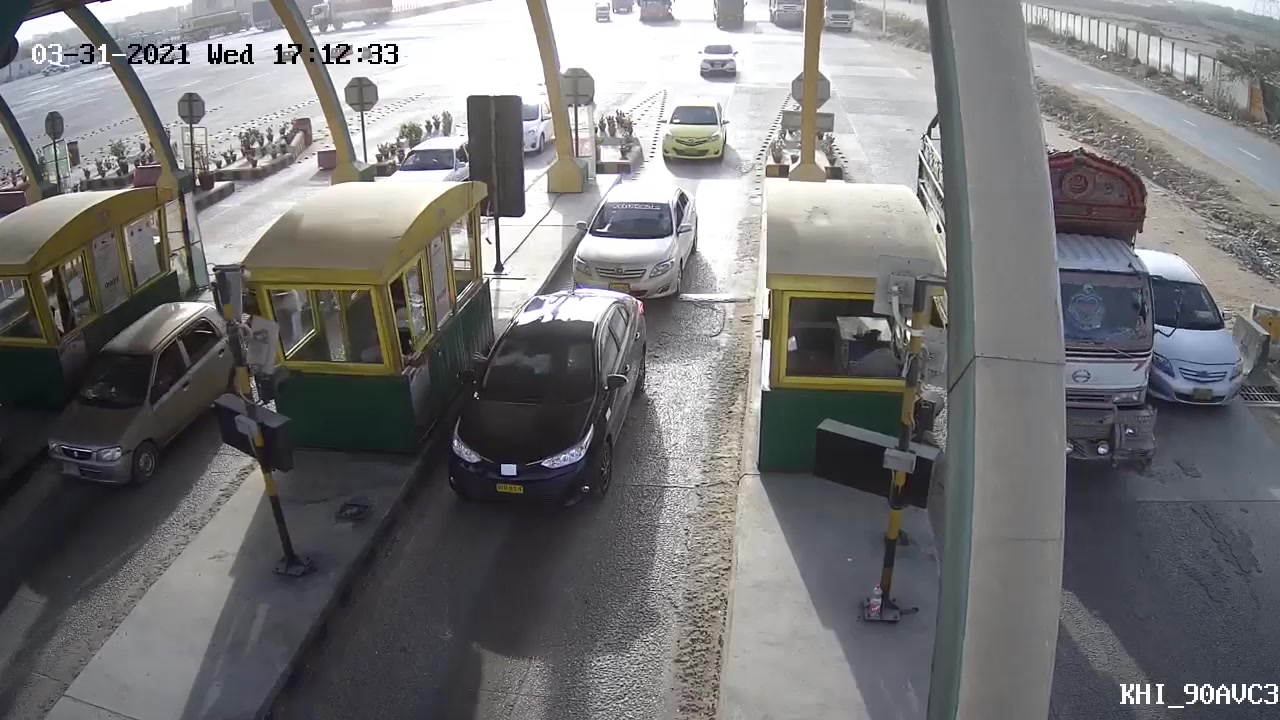F1: (444, 287, 652, 534), (572, 177, 702, 307), (652, 98, 730, 166)
